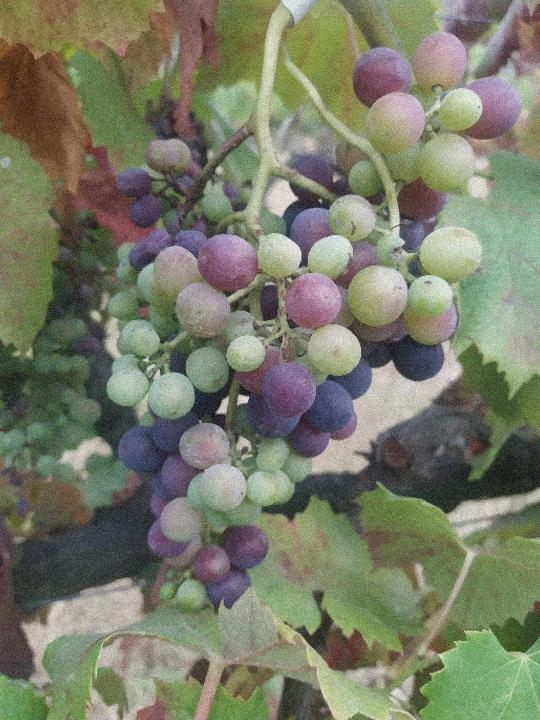grape: (106, 29, 528, 619)
